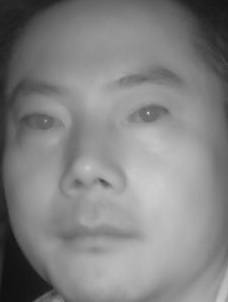eye: (121, 102, 173, 131), (18, 109, 68, 139)
mouth: (57, 208, 140, 257)
